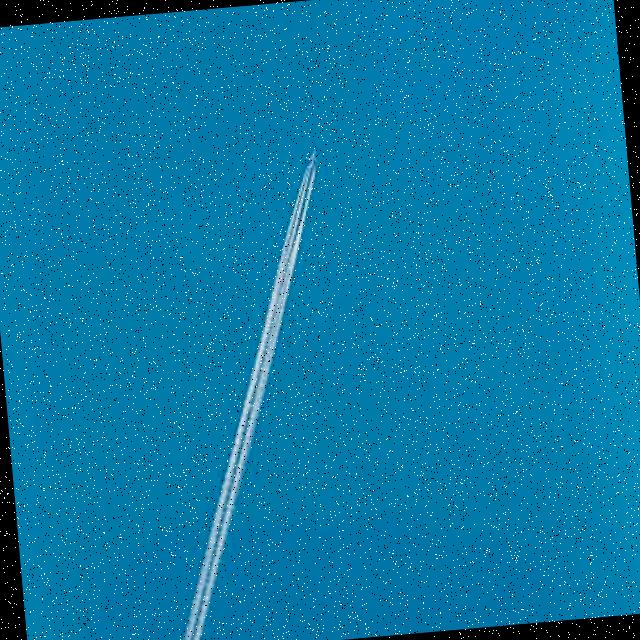Ct: (1, 101, 640, 640)
